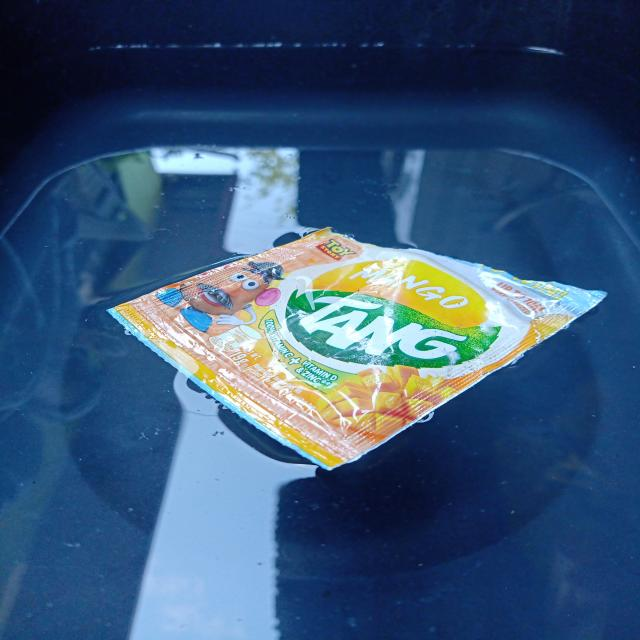Plastic Wrapper: (94, 216, 613, 488)
